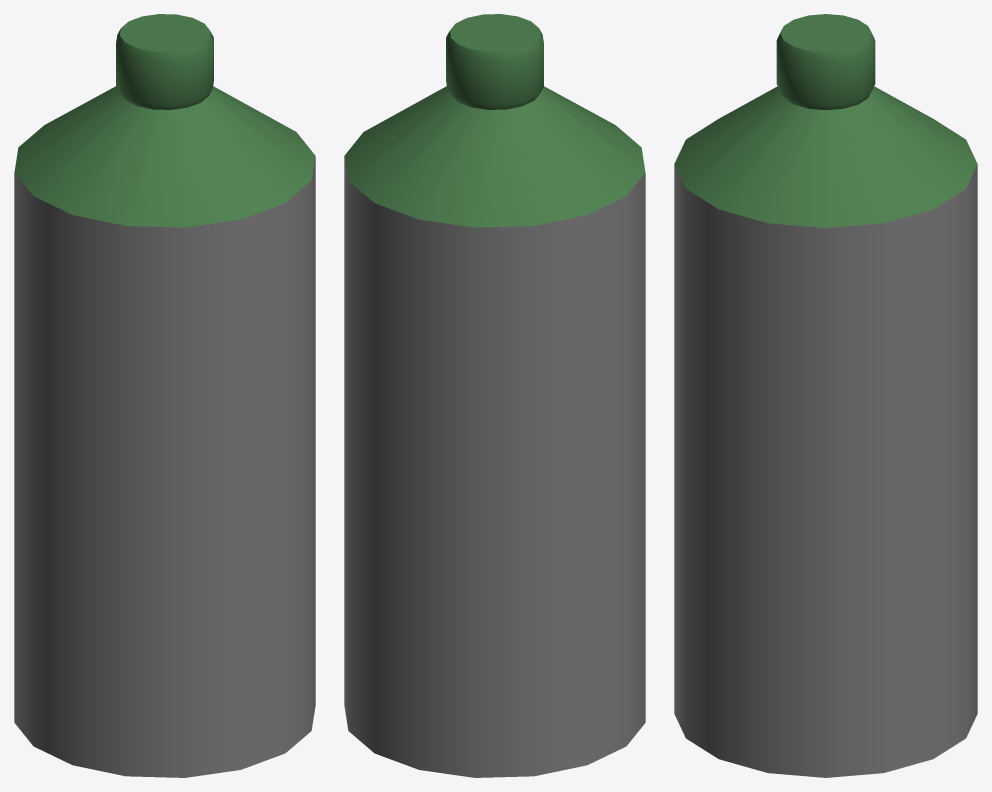
File: cannister.glb
3 views of the same model, side by side, from view 1: azimuth 30°, elevation 25°; view 2: azimuth 150°, elevation 25°; view 3: azimuth 270°, elevation 25° (orthographic).
Visible parts, largest first — view 1: Cannister; view 2: Cannister; view 3: Cannister.
Boxes of the visible parts, box(x1,y1,x2,y2) form: Cannister: box(14, 14, 315, 777); Cannister: box(344, 14, 645, 777); Cannister: box(674, 14, 977, 777).
Size of the model in its own units: 0.4 by 0.9904 by 0.4.
